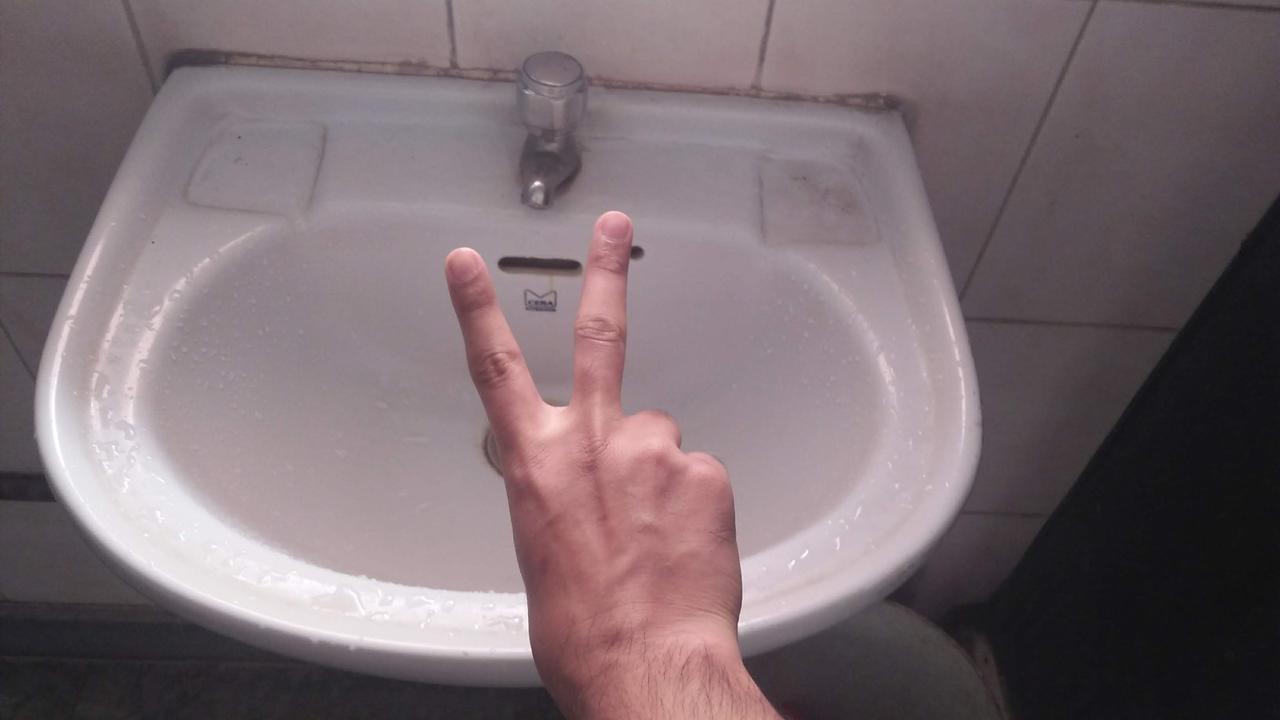fingertip: (436, 238, 490, 298), (584, 196, 638, 252)
